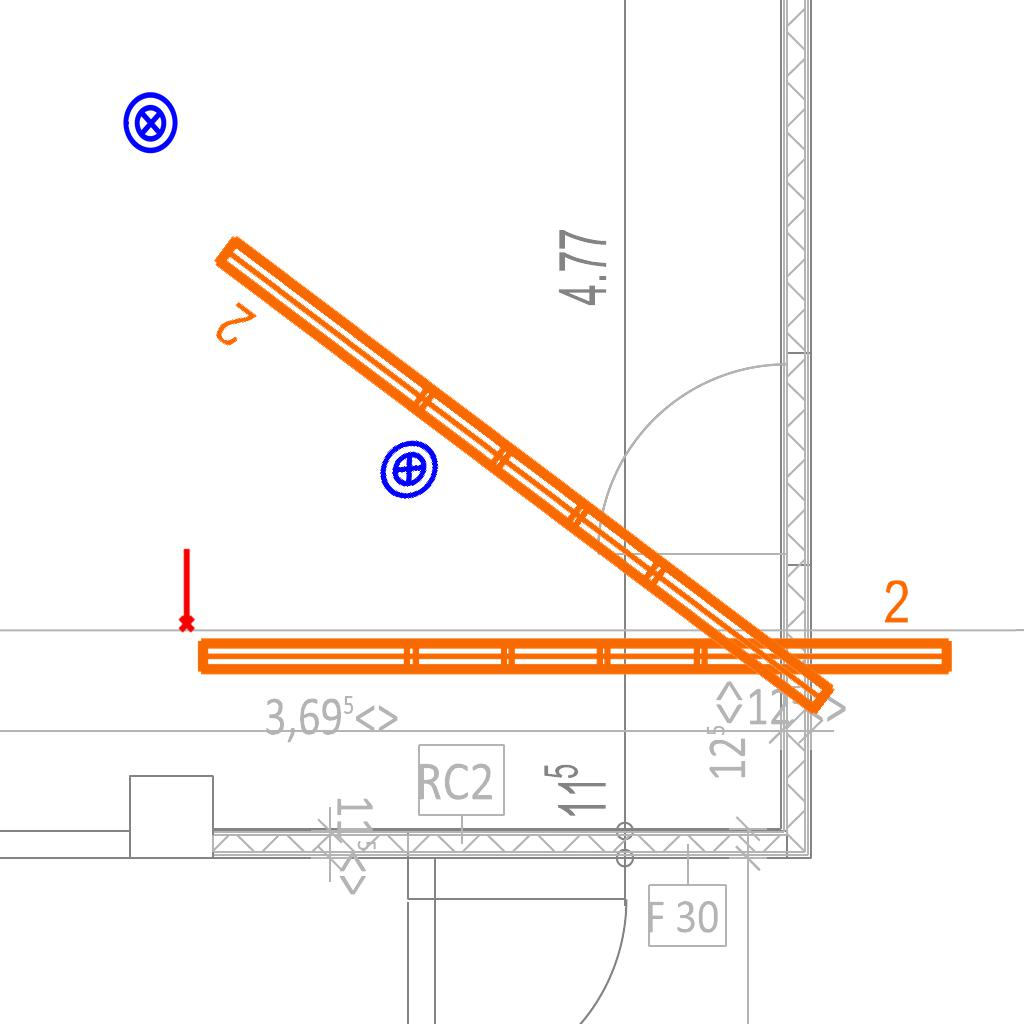ASR_Ansaugoeffnung: (174, 546, 197, 634)
Ambulanz_Pendelleuchte_LED: (167, 218, 853, 774), (187, 575, 961, 687)
Taster_beleuchtet: (362, 422, 456, 516), (118, 90, 184, 156)
